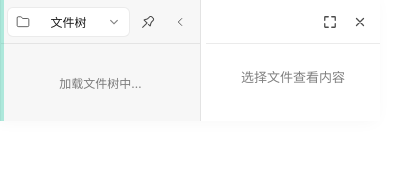
ToolSidePanel navigation collapse › keeps the navigation expanded when pinning and unpinning
The image size is (397, 187).
Step 1. Click the button named "钉住左列" → x=148, y=22, box x1=134 y1=8 x2=162 y2=36
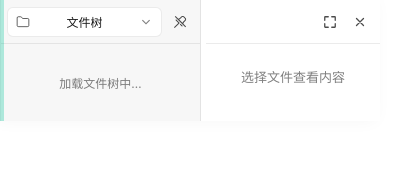
Expected: the button named "取消钉住" is shown
Expected: the button "收起导航" is gone
Step 2. Click the button named "取消钉住" → x=180, y=22, box x1=166 y1=8 x2=194 y2=36
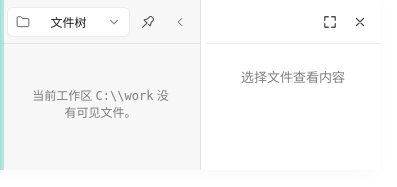
Expected: the element with class "tool-side-panel__nav-body" is shown, x1=32 y1=88 x2=169 y2=120
Expected: the button named "钉住左列" is shown, x1=134 y1=8 x2=162 y2=36
Expected: the button named "收起导航" is shown, x1=166 y1=8 x2=194 y2=36
